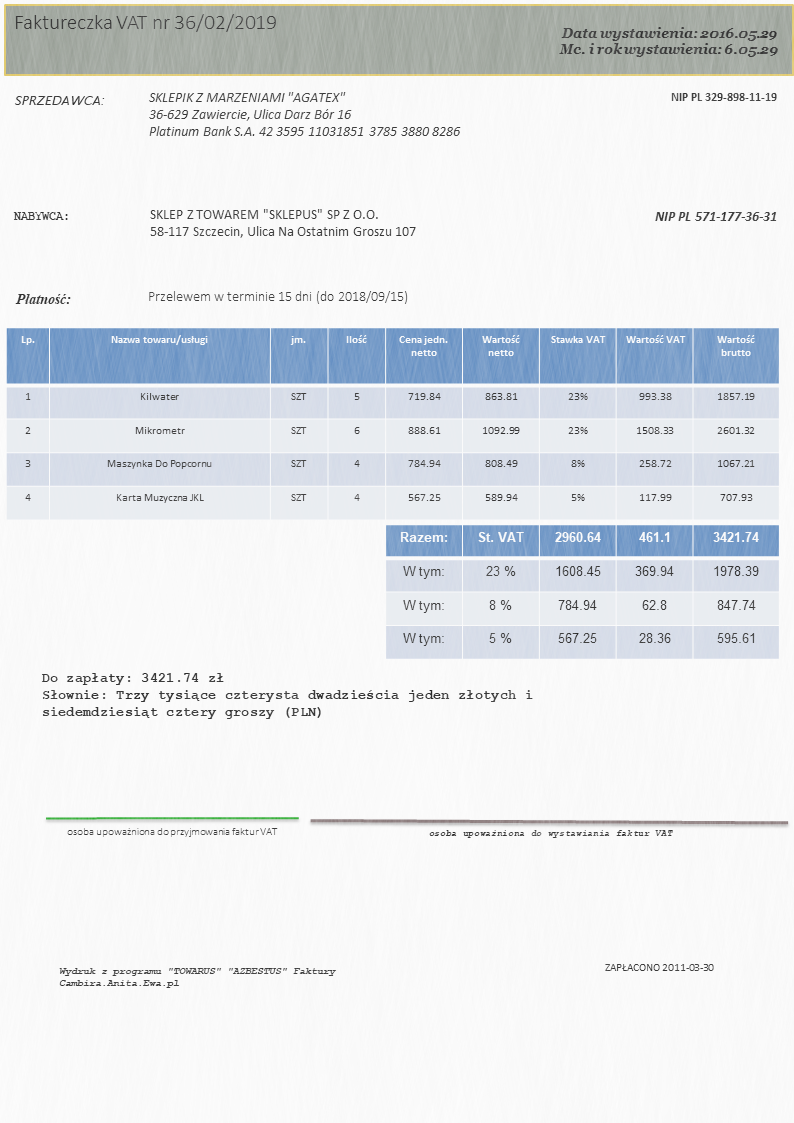Table: (4, 327, 779, 522), (385, 524, 779, 661)
TextBox: (38, 669, 538, 722), (144, 87, 463, 145), (146, 206, 418, 241), (555, 22, 781, 62), (55, 965, 341, 992), (10, 9, 279, 34), (145, 289, 410, 306), (426, 826, 675, 840), (63, 825, 279, 839), (667, 87, 777, 107), (652, 208, 778, 225), (10, 90, 106, 111), (602, 959, 717, 975), (10, 207, 70, 225), (13, 290, 72, 307)
